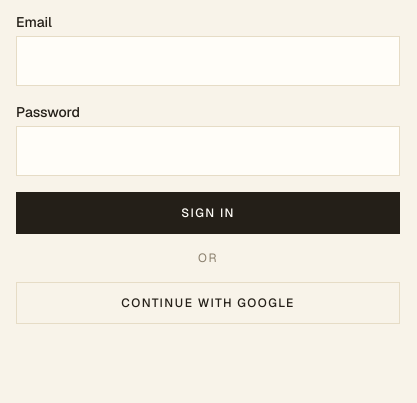
Test case: SignInForm › disables the submit button while rate-limited
This screenshot has width=417, height=403.
Type "ratelimited@example.com" into the field with test id "sign-in-email-input" at (208, 61), box [16,36,400,86]
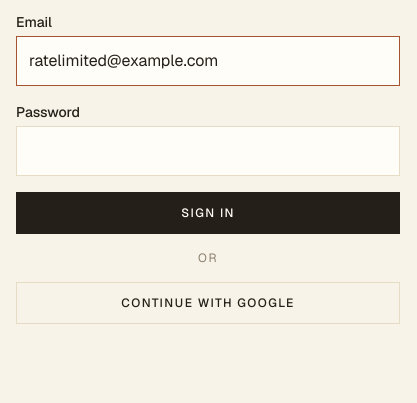
Type "whatever" into the password field with test id "sign-in-password-input" at (208, 151), box [16,126,400,176]
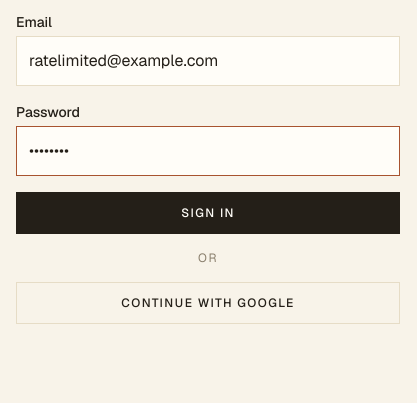
Click the button with test id "sign-in-submit-button" at (208, 213), box [16,192,400,234]
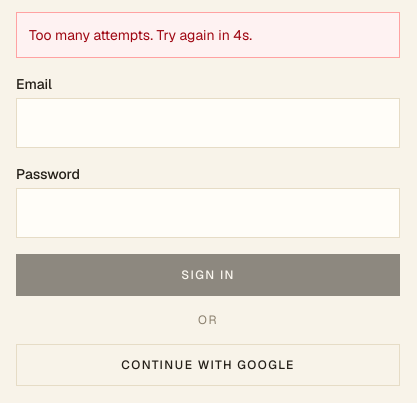
Expected: the button with test id "sign-in-submit-button" is disabled, [16,254,400,296]
